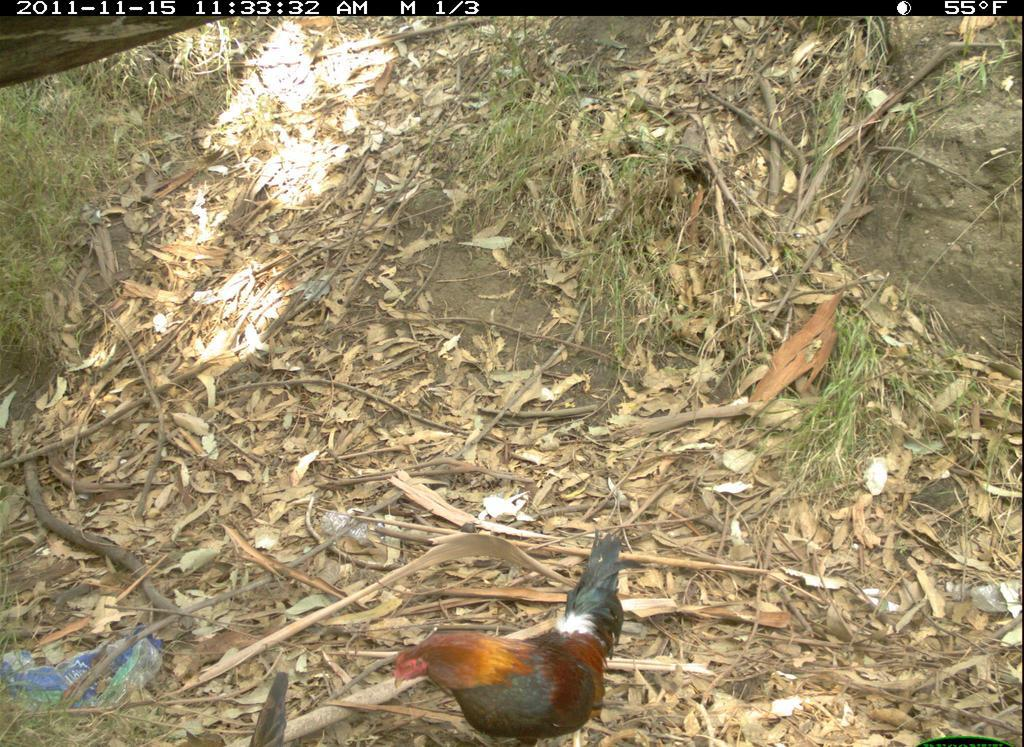bird: (379, 530, 637, 747)
